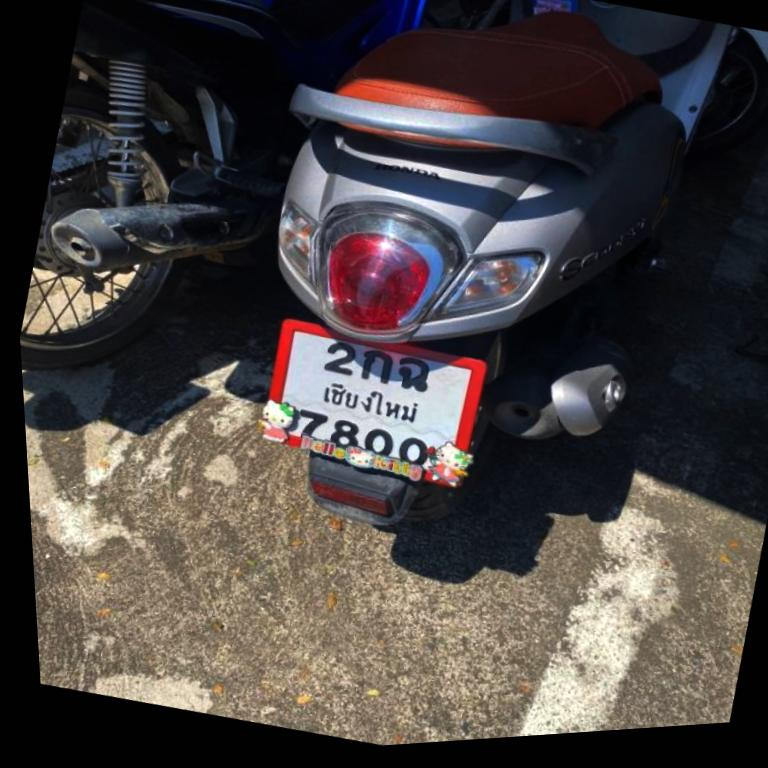license plate: (236, 297, 509, 519)
